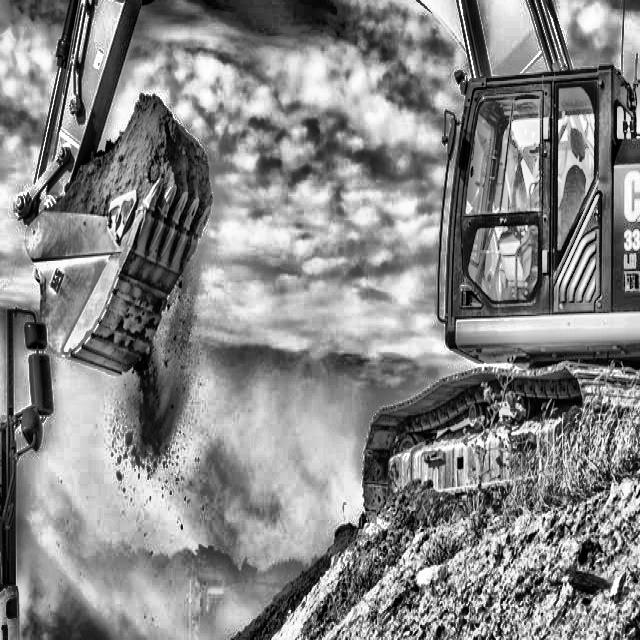excavator: (13, 0, 640, 510)
